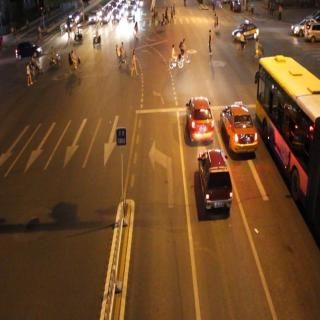BigCar: (256, 48, 320, 225)
Car: (198, 144, 234, 224), (222, 96, 258, 160), (179, 84, 212, 143), (234, 17, 257, 48), (291, 13, 310, 43), (303, 20, 320, 49)
